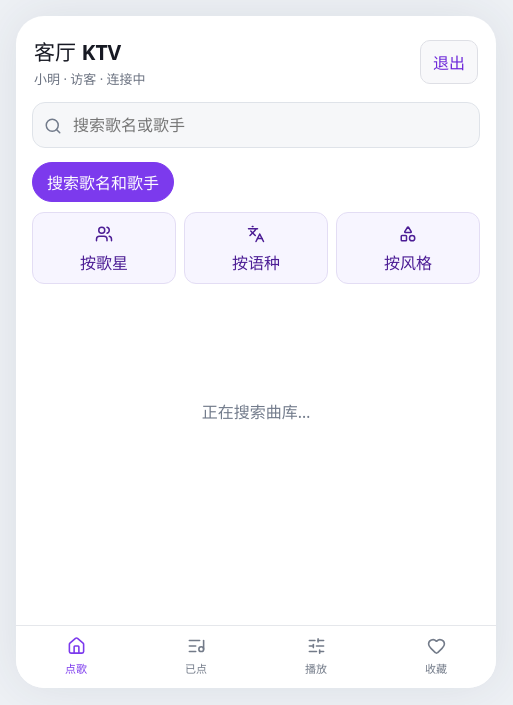
Test: mobile application shell › uses independent second-level singer language and style menus instead of combined selects
The image size is (513, 705).
Expected: the button "按歌星" is shown, [32,212,176,284]
Expected: the button "按风格" is shown, [336,212,480,284]
Step 1. Click the button "按语种" → [256, 248], box [184,212,328,284]
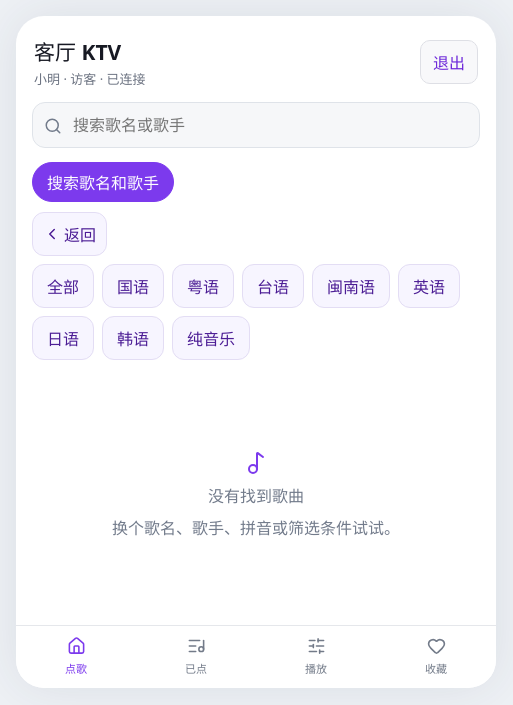
Expected: the button "粤语" is shown, [172,264,234,308]
